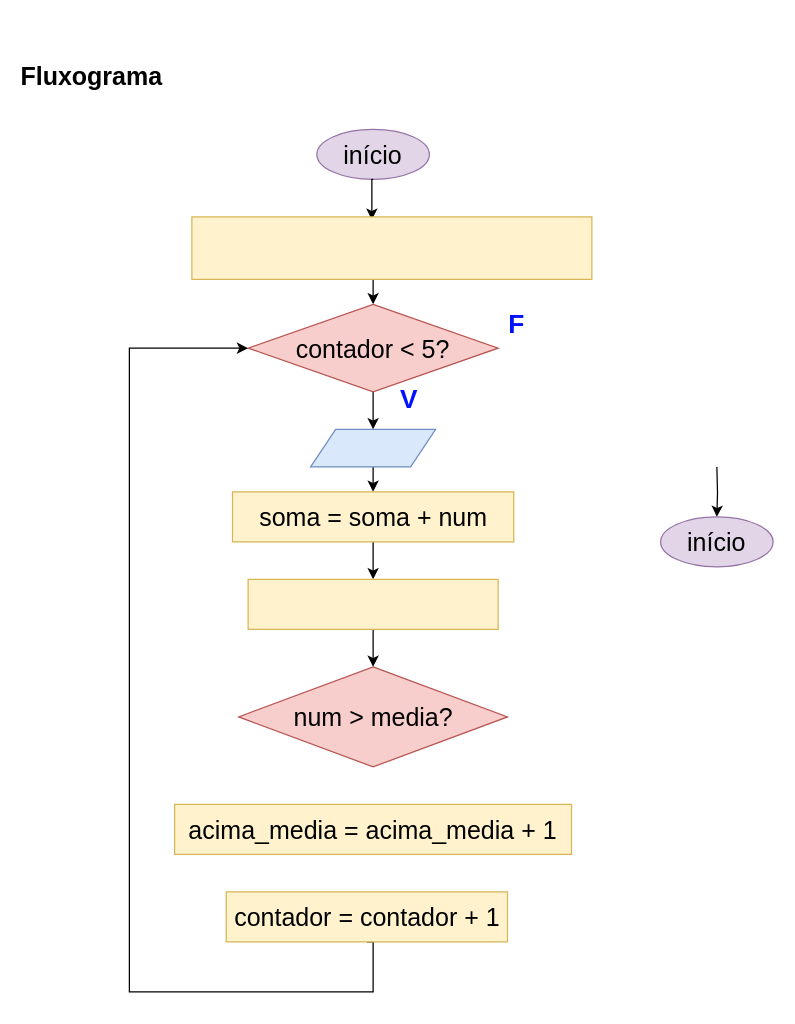
Image size: 795x1024. Some labels were removed from this diagram. Each missing label, with the centre of its shape:
media = soma / 5: point 372,603
num: point 372,447
soma = 0, contador = 0, acima_media = 0: point 391,247
